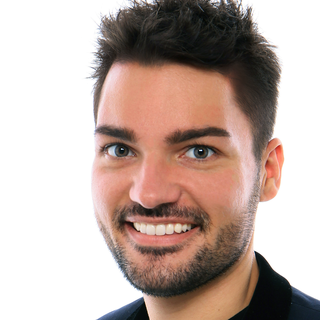eye: (165, 141, 225, 165), (97, 140, 143, 164)
